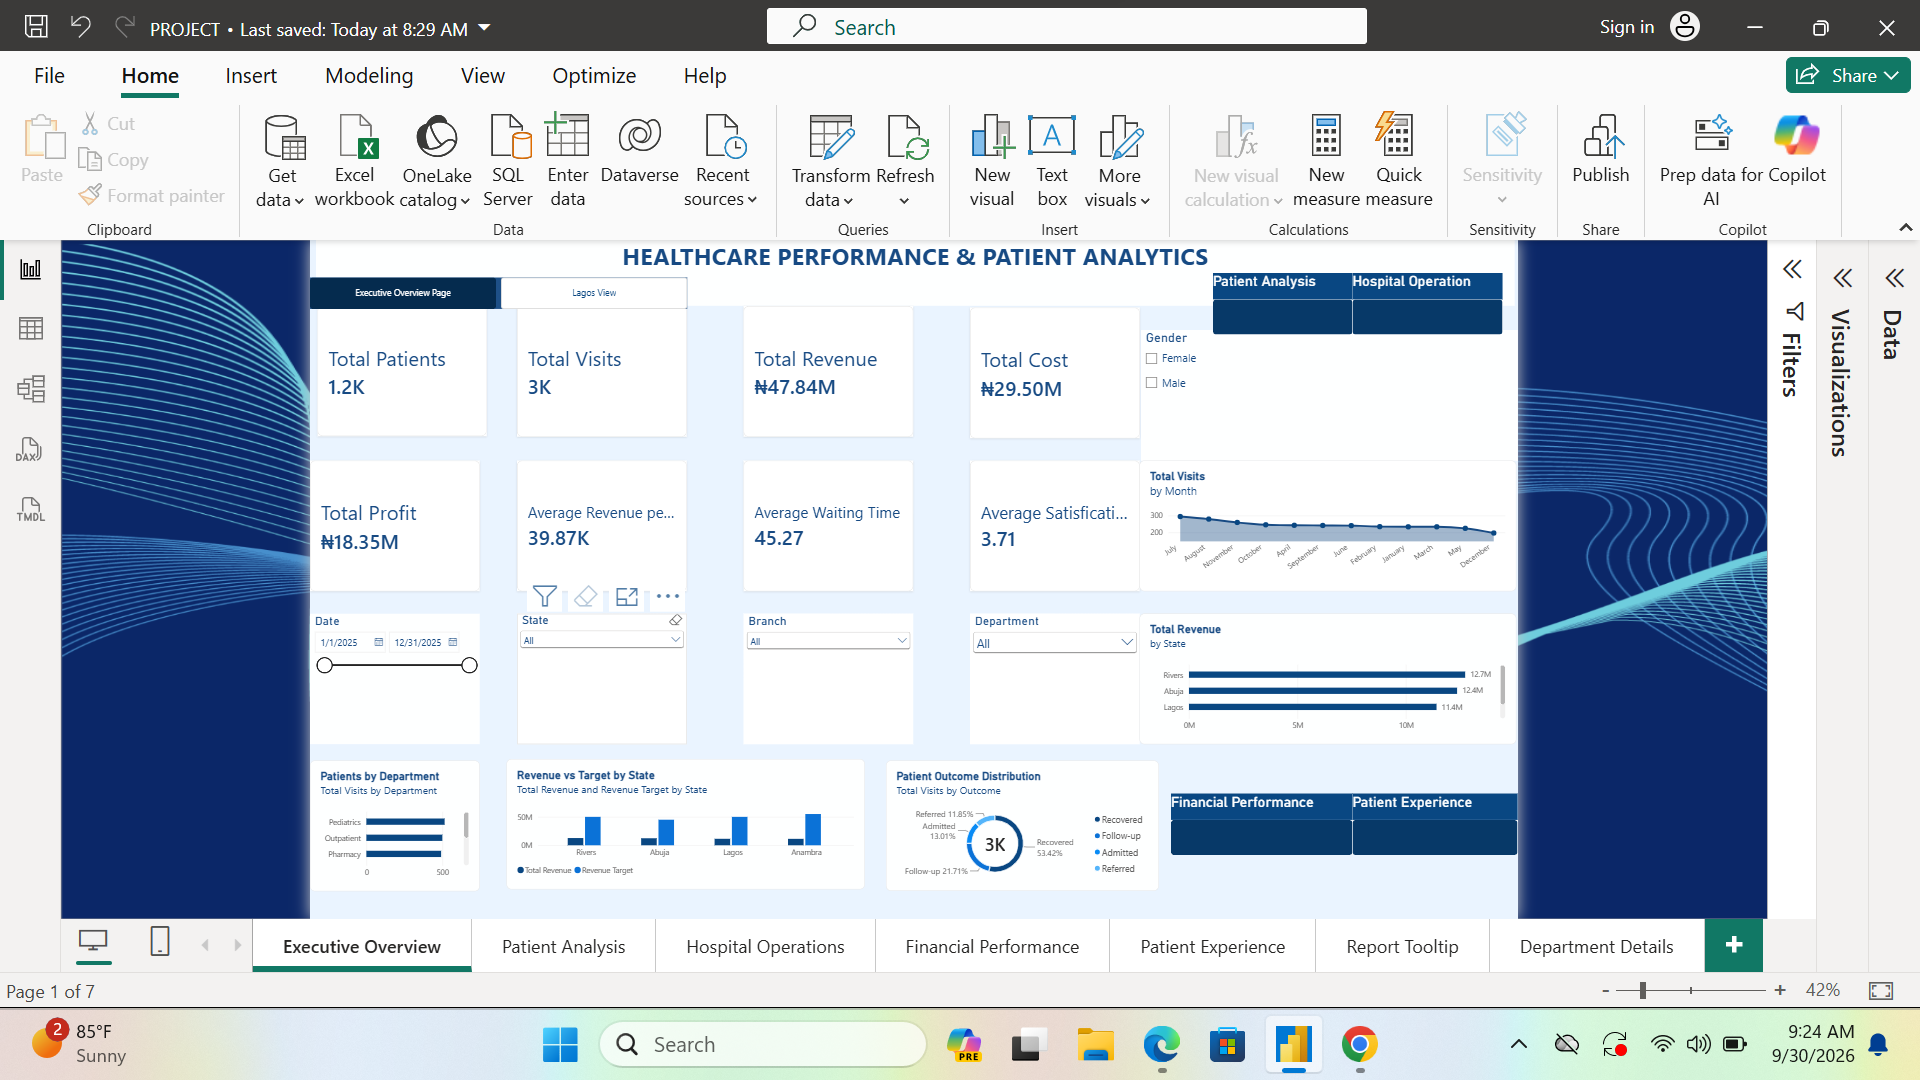

The page's visual inventory and layout, read from the dashboard file:
{"tool":"powerbi","page":{"name":"Executive Overview","canvas":[1920,1080],"ordinal":0},"visuals":[{"type":"textbox","box":[8.9,0,1906.7,104.4],"z":0},{"type":"cardVisual","fields":{"Data":["Date_Table.Total Patients"]},"box":[11.9,105,269.6,207.6],"z":1000},{"type":"cardVisual","fields":{"Data":["Date_Table.Total Visits"]},"box":[329.3,105,270,208],"z":2000},{"type":"cardVisual","fields":{"Data":["Patient_Visits.Total Revenue"]},"box":[689.5,105,270,208],"z":3000},{"type":"cardVisual","fields":{"Data":["Patient_Visits.Total Cost"]},"box":[1049.8,107.4,270,208],"z":4000},{"type":"cardVisual","fields":{"Data":["Patient_Visits.Total Profit"]},"box":[0,350.7,270,208],"z":5000},{"type":"cardVisual","fields":{"Data":["Patient_Visits.Average Revenue per Patient"]},"box":[329.3,350.7,270,208],"z":6000},{"type":"cardVisual","fields":{"Data":["Patient_Visits.Average Waiting Time"]},"box":[689.5,350.7,270,208],"z":7000},{"type":"cardVisual","fields":{"Data":["Patient_Visits.Average Satisfication"]},"box":[1049.8,350.7,270,208],"z":8000},{"type":"slicer","fields":{"Values":["Date_Table.Date"]},"box":[0,595,270,208],"z":9000},{"type":"slicer","fields":{"Values":["Patient_Visits.State"]},"box":[329.3,594.1,270,208],"z":10000},{"type":"slicer","fields":{"Values":["Patient_Visits.Branch"]},"box":[690,594,270,208],"z":11000},{"type":"slicer","fields":{"Values":["Patient_Visits.Department"]},"box":[1050,594,270,208],"z":12000},{"type":"slicer","fields":{"Values":["Patient_Visits.Gender"]},"box":[1321.8,143.2,599,208],"z":13000},{"type":"lineChart","fields":{"Category":["Date_Table.Month"],"Y":["Date_Table.Total Visits"]},"box":[1320,351,599,208],"z":14000},{"type":"clusteredBarChart","fields":{"Category":["Patient_Visits.State"],"Y":["Patient_Visits.Total Revenue"]},"box":[1320,594,599,208],"z":15000},{"type":"clusteredBarChart","title":"Patients by Department","fields":{"Category":["Patient_Visits.Department"],"Y":["Date_Table.Total Visits"]},"box":[0,827.5,270,208],"z":16000},{"type":"clusteredColumnChart","title":"Revenue vs Target by State","fields":{"Category":["State_Targets.State"],"Y":["Patient_Visits.Total Revenue","Patient_Visits.Revenue Target"]},"box":[312.6,825.5,570.2,207.6],"z":17000},{"type":"donutChart","title":"Patient Outcome Distribution","fields":{"Category":["Patient_Visits.Outcome"],"Y":["Date_Table.Total Visits"]},"box":[916.2,827.9,434.2,207.6],"z":18000},{"type":"bookmarkNavigator","box":[0,60.7,600,50],"z":19000},{"type":"actionButton","title":"Patient Analysis","box":[1436.3,52.5,221.9,97.8],"z":20000},{"type":"actionButton","title":"Hospital Operation","box":[1658.2,52.5,238.6,97.8],"z":21000},{"type":"actionButton","title":"Financial Performance","box":[1369.5,880.4,288.7,97.8],"z":22000},{"type":"actionButton","title":"Patient Experience","box":[1658.2,880.4,262.5,97.8],"z":23000}]}

Visuals, with their boxes on the page's 1920x1080 design canvas (x1, y1, x2, y2). These are canvas units, not pixel positions in the 1920x1080 screenshot, which may show the page scaled, cropped or inside an application window:
textbox: left=9, top=0, right=1916, bottom=104
cardVisual - Date_Table.Total Patients: left=12, top=105, right=282, bottom=313
cardVisual - Date_Table.Total Visits: left=329, top=105, right=599, bottom=313
cardVisual - Patient_Visits.Total Revenue: left=690, top=105, right=960, bottom=313
cardVisual - Patient_Visits.Total Cost: left=1050, top=107, right=1320, bottom=315
cardVisual - Patient_Visits.Total Profit: left=0, top=351, right=270, bottom=559
cardVisual - Patient_Visits.Average Revenue per Patient: left=329, top=351, right=599, bottom=559
cardVisual - Patient_Visits.Average Waiting Time: left=690, top=351, right=960, bottom=559
cardVisual - Patient_Visits.Average Satisfication: left=1050, top=351, right=1320, bottom=559
slicer - Date_Table.Date: left=0, top=595, right=270, bottom=803
slicer - Patient_Visits.State: left=329, top=594, right=599, bottom=802
slicer - Patient_Visits.Branch: left=690, top=594, right=960, bottom=802
slicer - Patient_Visits.Department: left=1050, top=594, right=1320, bottom=802
slicer - Patient_Visits.Gender: left=1322, top=143, right=1921, bottom=351
lineChart - Date_Table.Month x Date_Table.Total Visits: left=1320, top=351, right=1919, bottom=559
clusteredBarChart - Patient_Visits.State x Patient_Visits.Total Revenue: left=1320, top=594, right=1919, bottom=802
"Patients by Department" clusteredBarChart: left=0, top=828, right=270, bottom=1036
"Revenue vs Target by State" clusteredColumnChart: left=313, top=826, right=883, bottom=1033
"Patient Outcome Distribution" donutChart: left=916, top=828, right=1350, bottom=1036
bookmarkNavigator: left=0, top=61, right=600, bottom=111
"Patient Analysis" actionButton: left=1436, top=52, right=1658, bottom=150
"Hospital Operation" actionButton: left=1658, top=52, right=1897, bottom=150
"Financial Performance" actionButton: left=1370, top=880, right=1658, bottom=978
"Patient Experience" actionButton: left=1658, top=880, right=1921, bottom=978
